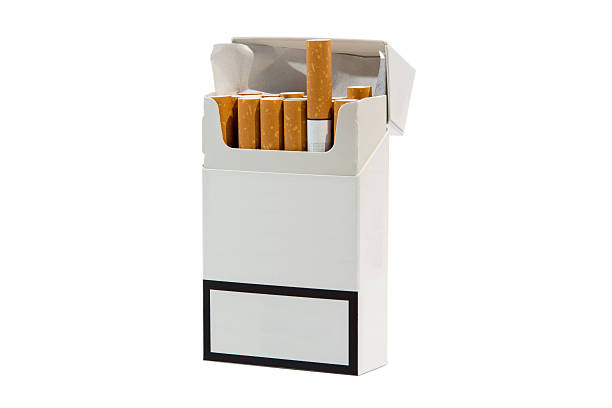cigarette: (201, 28, 416, 376), (305, 38, 333, 152), (260, 97, 286, 149), (283, 97, 308, 149), (210, 94, 233, 148), (236, 97, 260, 148), (333, 98, 357, 136), (347, 85, 372, 99)
